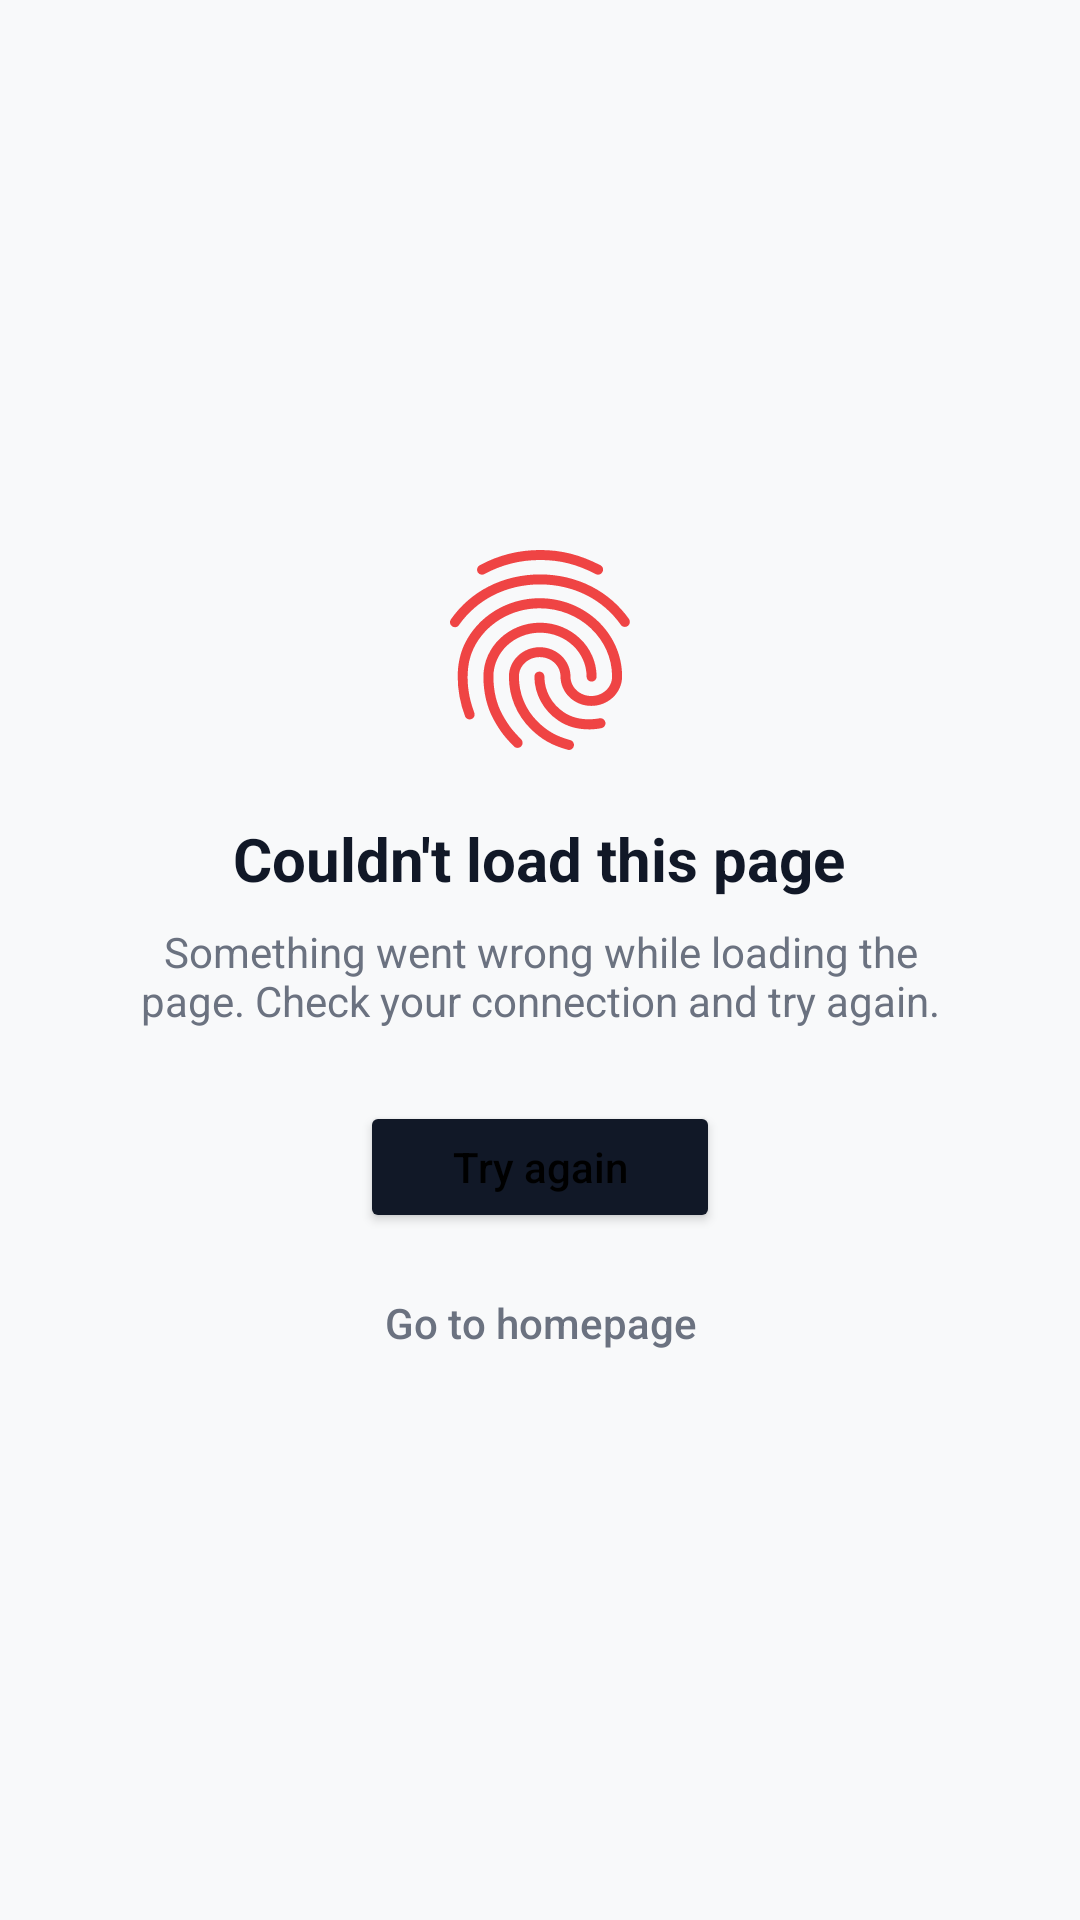

Icon click points for this 1080px×1920px phone screenshot, format (x=x, y=y):
fingerprint: (x=540, y=650)
